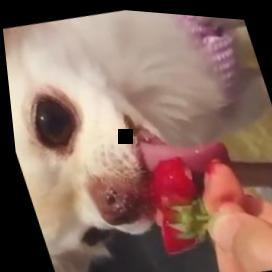nasal_discharge: (87, 176, 135, 219)
